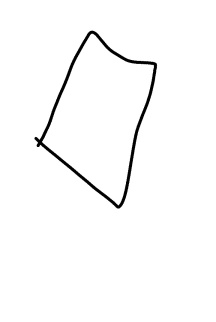Square: (32, 29, 160, 210)
